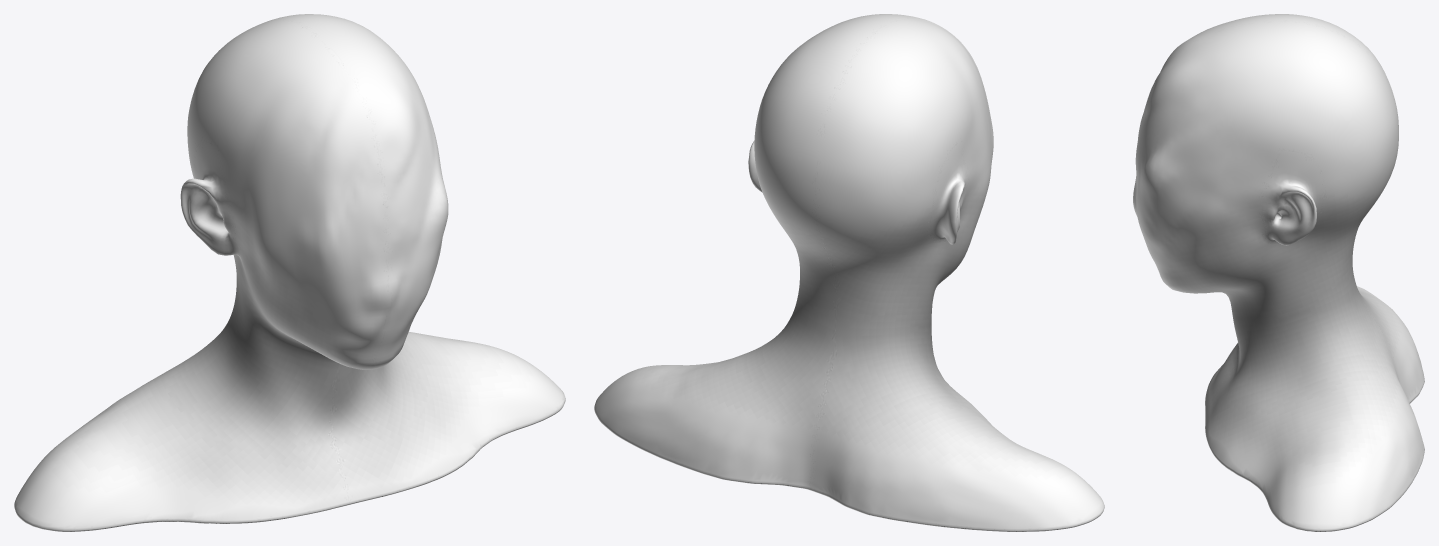
The picture shows the model from 3 angles, left to right: view 1: azimuth 30°, elevation 25°; view 2: azimuth 150°, elevation 25°; view 3: azimuth 270°, elevation 25°; orthographic projection. The views are drawn at different scales.
Parts seen in each view (by area): view 1: HG_Body_low; view 2: HG_Body_low; view 3: HG_Body_low.
Boxes of the visible parts, left/top/right/bottom form: HG_Body_low: left=14, top=14, right=565, bottom=531; HG_Body_low: left=594, top=14, right=1104, bottom=531; HG_Body_low: left=1133, top=14, right=1424, bottom=531.
Size of the model in its own units: 0.9194 by 0.7303 by 0.4914.
1 material, 1 textured.
